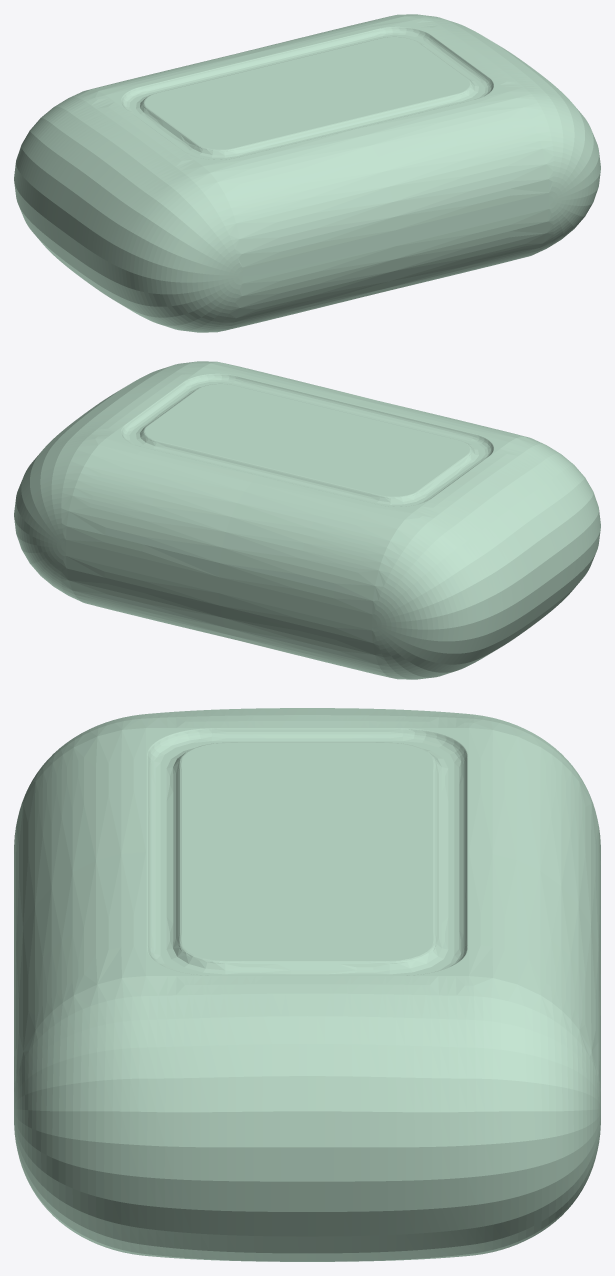
File: Bodywash.fbx
3 views of the same model, one above another, from view 1: azimuth 30°, elevation 25°; view 2: azimuth 150°, elevation 25°; view 3: azimuth 270°, elevation 25° (orthographic). The views are drawn at different scales.
Visible parts, largest first — view 1: 개체_1; view 2: 개체_1; view 3: 개체_1.
Boxes of the visible parts, left/top/right/bottom form: 개체_1: left=14, top=14, right=600, bottom=332; 개체_1: left=14, top=361, right=600, bottom=679; 개체_1: left=14, top=708, right=600, bottom=1261.
Size of the model in its own units: 634 by 200 by 400.
